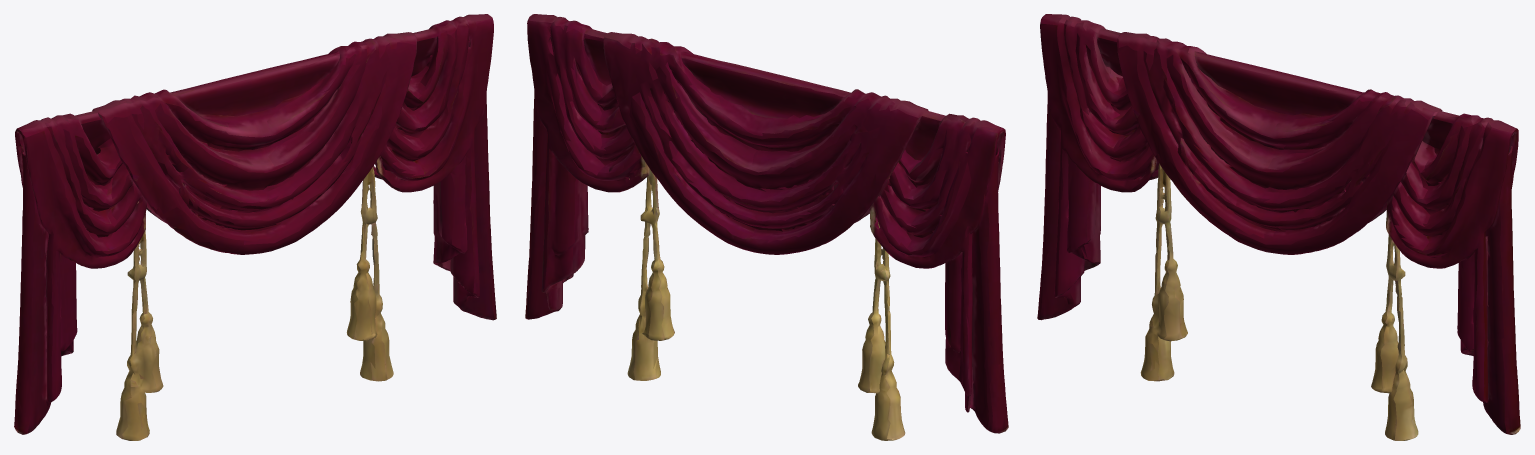
The model's file is aholo-20261119-drapery-swag.glb.
3 renders of one model, left to right at view 1: azimuth 30°, elevation 25°; view 2: azimuth 150°, elevation 25°; view 3: azimuth 330°, elevation 25°, orthographic.
Parts seen in each view (by area): view 1: geometry_0; view 2: geometry_0; view 3: geometry_0.
Boxes of the visible parts, box(x1,y1,x2,y2) form: geometry_0: box(14, 14, 496, 440); geometry_0: box(525, 14, 1008, 440); geometry_0: box(1037, 14, 1520, 440).
Bounding box in the file's own units: 1.8 × 1.21 × 0.2369.
Materials: 1 (1 with a texture image).
